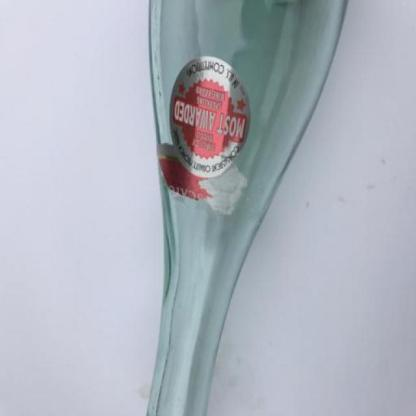Can: (145, 0, 350, 416)
